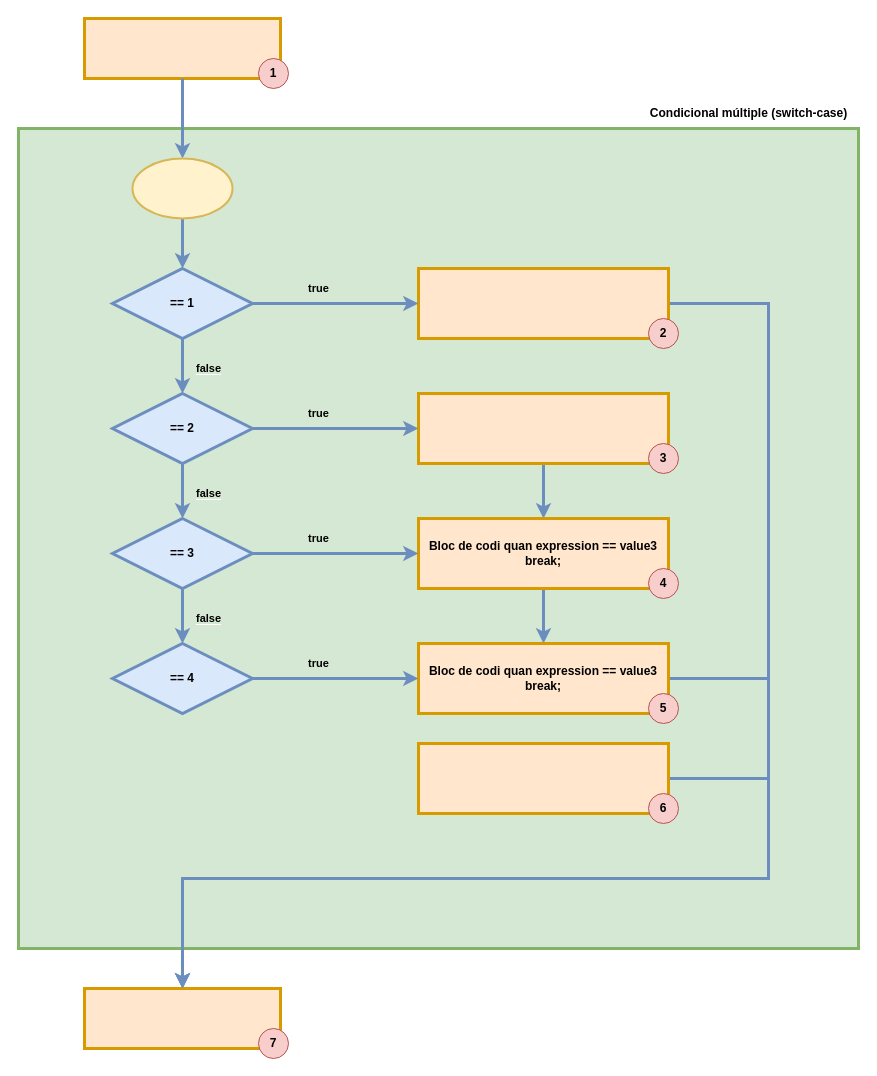
Image size: 877x1076. Some labels were removed from this diagram. Each missing label, with the box of its shape:
Bloc de codi default: (416, 742, 670, 814)
Bloc de codi quan expression == value1 break;: (416, 266, 670, 340)
Bloc de codi quan expression == value2 break;: (416, 392, 670, 464)
Instruccions abans de la sentència SWITCH-CASE: (82, 16, 282, 80)
Instruccions després de la sentència SWITCH-CASE: (82, 986, 282, 1050)
myValue: (131, 157, 233, 219)
